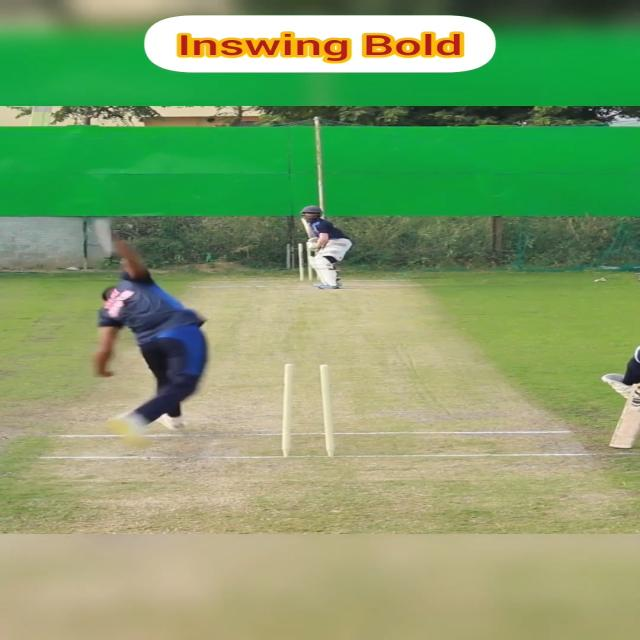stump: (278, 362, 339, 458), (297, 242, 322, 282)
